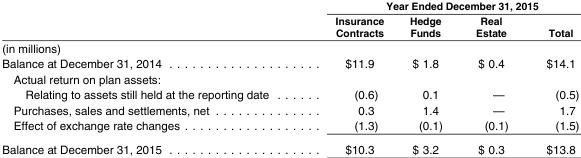table: (1, 1, 578, 155)
table column: (1, 1, 301, 155), (301, 1, 396, 155), (458, 1, 526, 155), (396, 1, 458, 155), (526, 1, 578, 155)
table column header: (1, 1, 578, 56)
table projected row header: (1, 71, 578, 87)
table row: (1, 13, 578, 56), (1, 118, 578, 137), (1, 137, 578, 155), (1, 71, 578, 87), (1, 102, 578, 118), (1, 56, 578, 71), (1, 87, 578, 102), (1, 1, 578, 13)
table spanning cell: (1, 1, 301, 56), (301, 1, 578, 13)
